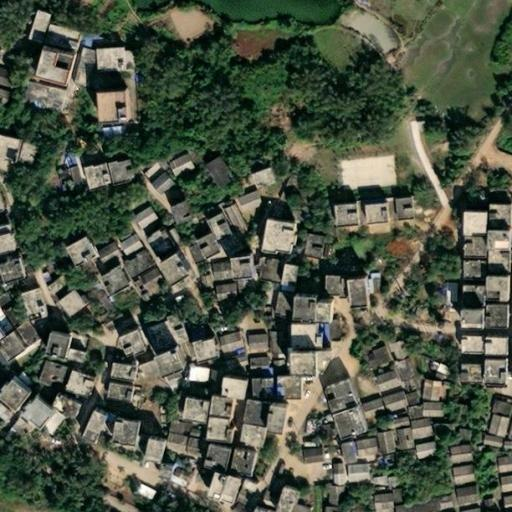building: (142, 317, 183, 356), (258, 221, 301, 258), (21, 398, 60, 437), (44, 55, 84, 93), (162, 254, 198, 294), (102, 92, 139, 130), (27, 358, 66, 394), (1, 378, 39, 414), (198, 397, 232, 437), (57, 369, 93, 406), (11, 287, 47, 324), (75, 162, 109, 195), (95, 264, 128, 298), (317, 383, 354, 413), (199, 157, 231, 191), (113, 249, 147, 281), (26, 11, 54, 49), (52, 287, 84, 320), (248, 166, 280, 197), (103, 156, 133, 187), (47, 332, 76, 364), (294, 355, 326, 384), (116, 331, 148, 360), (0, 261, 28, 294), (347, 280, 375, 313), (87, 49, 125, 73), (141, 228, 170, 259), (65, 240, 96, 269), (206, 221, 234, 253), (160, 353, 192, 381), (227, 188, 257, 217), (190, 232, 219, 262), (209, 459, 234, 493), (125, 204, 154, 233), (102, 407, 132, 435), (158, 154, 189, 180), (288, 327, 319, 353), (268, 477, 292, 510), (128, 473, 158, 499), (98, 380, 135, 401), (218, 438, 246, 465), (127, 267, 155, 293), (222, 379, 252, 403), (487, 301, 511, 331), (43, 268, 70, 294), (13, 141, 37, 170), (231, 414, 257, 440), (8, 321, 35, 346), (372, 387, 400, 411), (109, 234, 135, 259), (278, 265, 304, 290), (233, 258, 258, 284), (204, 282, 230, 307), (189, 339, 214, 365), (366, 368, 391, 394), (479, 410, 504, 436), (154, 430, 181, 454), (216, 206, 239, 234), (71, 413, 96, 438), (434, 277, 458, 303), (195, 434, 222, 457), (329, 206, 357, 228), (273, 378, 298, 402), (485, 251, 509, 276), (486, 204, 509, 230), (317, 275, 344, 297), (463, 213, 490, 235), (328, 406, 356, 427), (458, 258, 482, 282), (298, 300, 321, 325), (455, 334, 481, 356), (298, 233, 319, 260), (459, 285, 486, 306), (199, 456, 218, 485), (130, 401, 152, 426), (130, 163, 156, 184), (319, 301, 338, 329), (90, 240, 113, 263), (484, 336, 507, 359), (6, 414, 30, 436), (170, 203, 192, 227), (134, 424, 158, 446), (485, 361, 509, 383), (291, 446, 316, 467), (351, 394, 376, 415), (0, 61, 13, 100), (140, 174, 163, 196), (489, 469, 512, 491), (387, 357, 408, 381), (55, 27, 81, 46), (360, 205, 386, 224), (257, 257, 276, 283), (385, 500, 426, 512), (491, 488, 512, 511), (360, 340, 380, 364), (211, 332, 236, 351), (386, 425, 405, 450), (385, 447, 408, 467), (405, 440, 430, 458), (464, 311, 489, 329), (454, 364, 480, 381), (487, 455, 512, 472), (364, 490, 385, 510), (134, 361, 156, 380), (148, 450, 167, 472), (446, 485, 468, 504), (490, 232, 512, 251), (125, 279, 141, 305), (338, 465, 362, 482), (368, 429, 385, 453), (458, 237, 487, 251), (25, 78, 56, 91), (234, 401, 259, 417), (487, 276, 512, 292), (238, 333, 259, 352), (109, 363, 130, 382), (481, 395, 502, 414), (217, 356, 240, 373), (201, 211, 221, 230), (180, 400, 199, 420), (164, 454, 191, 468), (382, 340, 400, 361), (402, 417, 423, 435), (269, 294, 284, 319), (331, 436, 348, 458), (242, 493, 261, 512), (80, 403, 101, 420), (348, 437, 369, 454), (391, 199, 407, 221), (442, 464, 465, 479), (397, 388, 416, 406), (39, 390, 59, 407), (416, 402, 437, 418), (200, 371, 215, 393), (258, 400, 277, 417), (49, 170, 63, 193), (264, 206, 285, 221), (203, 260, 224, 275), (463, 445, 487, 458), (380, 415, 402, 429), (398, 402, 416, 419), (233, 468, 252, 484), (443, 445, 463, 460), (425, 497, 445, 512), (268, 282, 289, 296), (475, 433, 496, 447), (258, 330, 275, 347), (319, 265, 343, 277), (216, 346, 235, 361), (164, 466, 183, 481), (392, 377, 411, 392), (226, 277, 237, 302), (227, 486, 243, 503), (160, 419, 177, 434), (175, 444, 192, 459), (355, 410, 378, 421), (180, 427, 198, 441), (92, 129, 117, 139), (45, 89, 67, 100), (179, 434, 195, 449), (181, 330, 197, 345), (423, 386, 438, 402), (258, 347, 275, 361), (501, 389, 512, 410), (240, 357, 259, 369), (245, 462, 260, 477), (76, 37, 90, 53), (319, 486, 332, 503), (466, 249, 486, 260), (241, 368, 265, 377), (322, 328, 337, 342), (74, 51, 87, 67), (275, 347, 283, 371), (413, 385, 424, 402), (428, 361, 441, 375), (404, 433, 424, 442), (22, 101, 36, 113), (67, 169, 77, 185), (13, 408, 26, 420), (378, 476, 390, 489), (385, 487, 396, 501), (316, 244, 326, 259), (285, 502, 300, 512), (259, 360, 275, 369), (0, 224, 13, 235), (300, 465, 313, 476), (324, 473, 335, 486), (264, 477, 274, 491), (314, 504, 331, 512), (165, 295, 177, 306), (292, 214, 305, 224), (502, 293, 512, 306), (137, 443, 151, 452), (495, 440, 509, 449), (159, 376, 167, 391), (338, 506, 358, 512), (507, 222, 512, 245), (323, 463, 333, 474), (254, 458, 264, 468), (420, 360, 429, 371), (265, 368, 277, 376), (362, 476, 375, 483), (361, 273, 372, 281), (508, 199, 512, 221), (220, 505, 232, 512), (415, 378, 425, 386), (487, 447, 495, 457), (450, 508, 470, 512), (0, 405, 6, 417), (316, 324, 322, 336), (282, 449, 291, 457), (365, 461, 374, 469), (129, 368, 134, 382), (431, 380, 441, 387), (318, 341, 326, 349), (481, 476, 490, 483), (269, 471, 276, 479), (425, 379, 432, 386), (253, 376, 265, 380), (506, 409, 512, 417), (365, 510, 385, 512)
